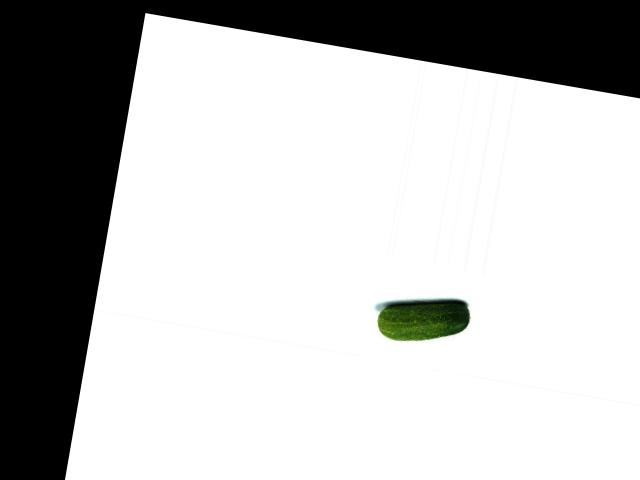cucumber: (375, 289, 472, 351)
